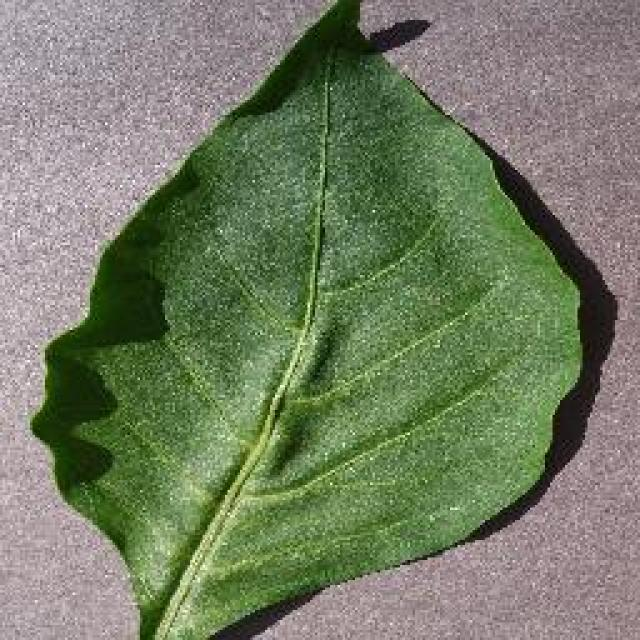Chilli_Healthy: (27, 0, 585, 638)
